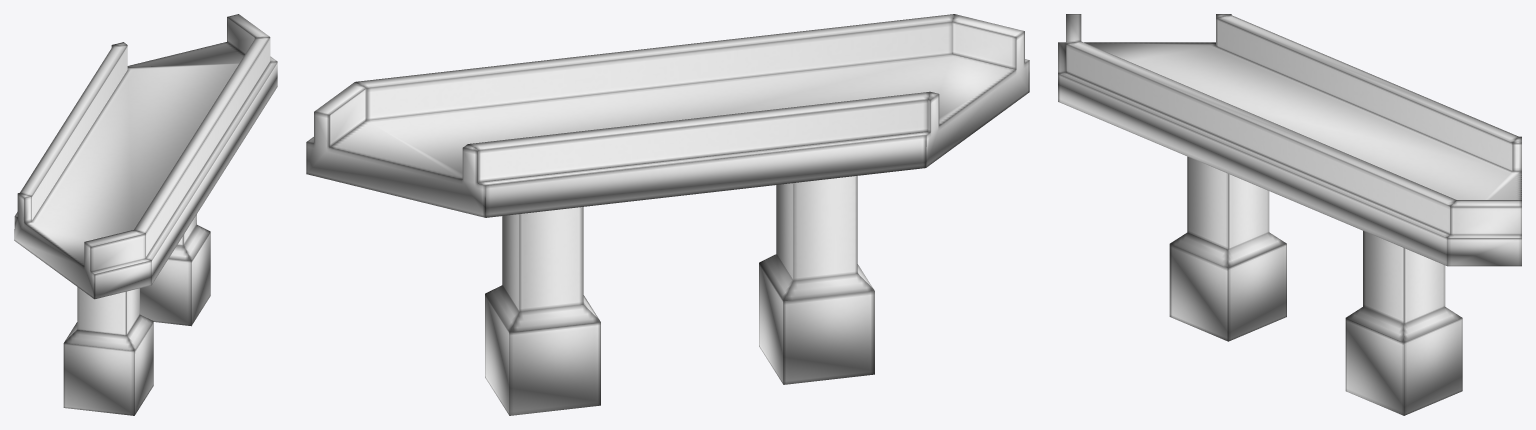
Rendered from Bridge-03.fbx.
3 renders of one model, left to right at view 1: azimuth 30°, elevation 25°; view 2: azimuth 150°, elevation 25°; view 3: azimuth 270°, elevation 25°, orthographic. The views are drawn at different scales.
Visible parts, largest first — view 1: Bridge-03; view 2: Bridge-03; view 3: Bridge-03.
Boxes of the visible parts, left/top/right/bottom form: Bridge-03: left=14, top=14, right=277, bottom=415; Bridge-03: left=306, top=14, right=1029, bottom=415; Bridge-03: left=1058, top=14, right=1521, bottom=415.
Bounding box in the file's own units: 1.86 × 1.12 × 1.86.
